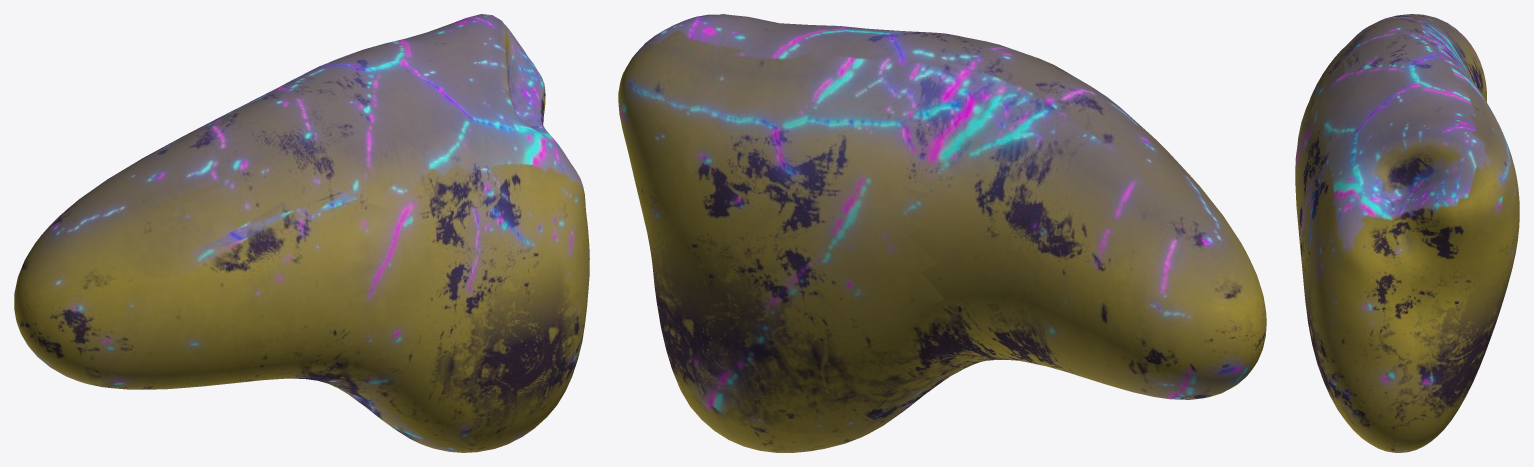
Rendered from Customer_Temporal.glb.
The picture shows the model from 3 angles, left to right: view 1: azimuth 30°, elevation 25°; view 2: azimuth 150°, elevation 25°; view 3: azimuth 270°, elevation 25°; orthographic projection. The views are drawn at different scales.
Parts seen in each view (by area): view 1: Potential, Current, Ethical; view 2: Ethical, Potential, Current; view 3: Current, Ethical, Potential.
Part boxes in pixels (box(x1,y1,x2,y2)): Potential: box(14, 85, 386, 389); Current: box(295, 80, 589, 452); Ethical: box(260, 14, 545, 392); Ethical: box(618, 14, 1006, 434); Potential: box(905, 39, 1266, 399); Current: box(666, 349, 934, 452); Current: box(1295, 73, 1463, 452); Ethical: box(1343, 29, 1519, 404); Potential: box(1296, 14, 1486, 155).
Size of the model in its own units: 0.863 by 0.6114 by 0.3692.
Materials: 1 (1 with a texture image).
